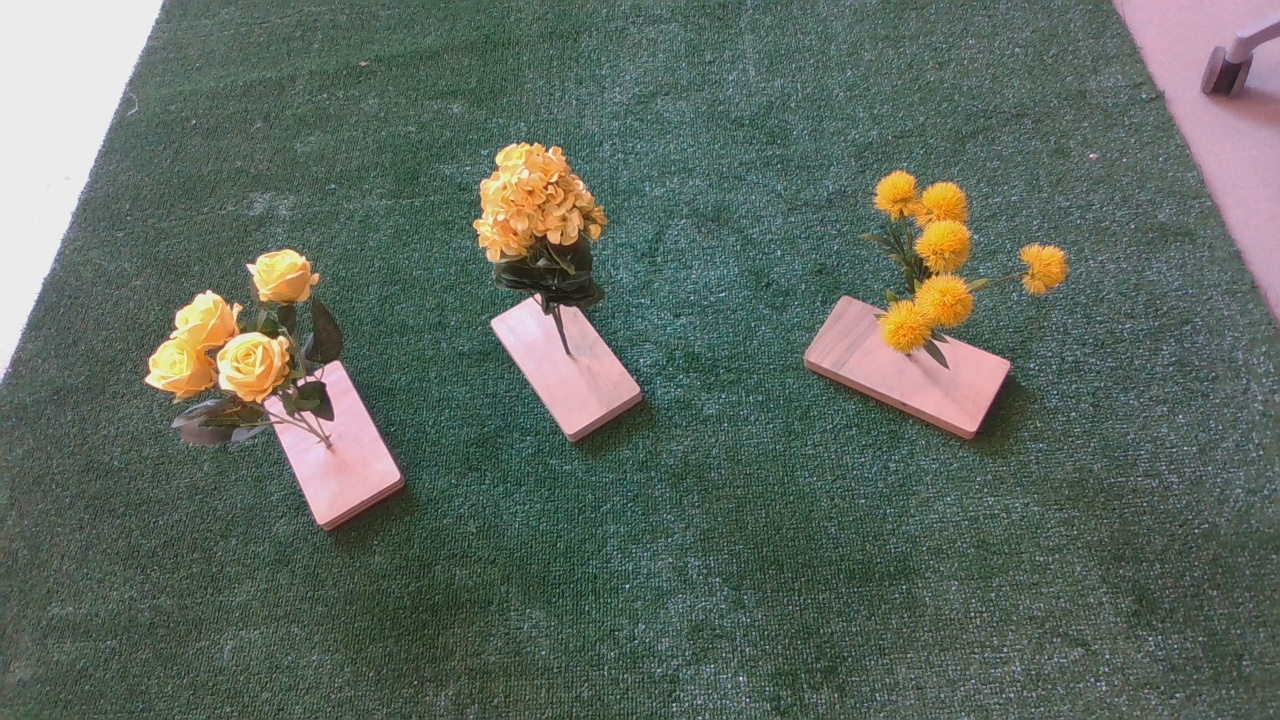dandelion: (825, 156, 1085, 364)
geranium: (471, 134, 623, 318)
rose: (123, 251, 353, 462)
